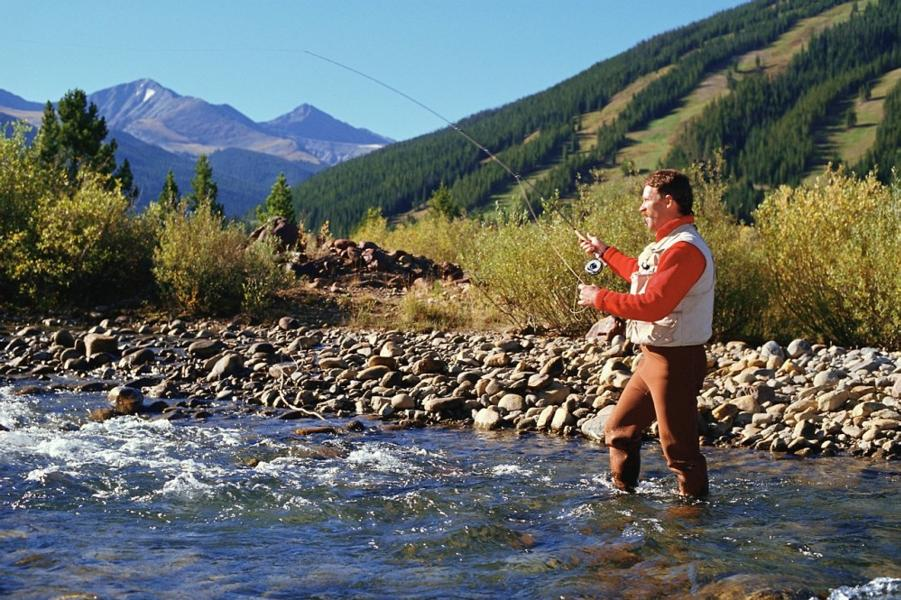person: (577, 171, 715, 496)
